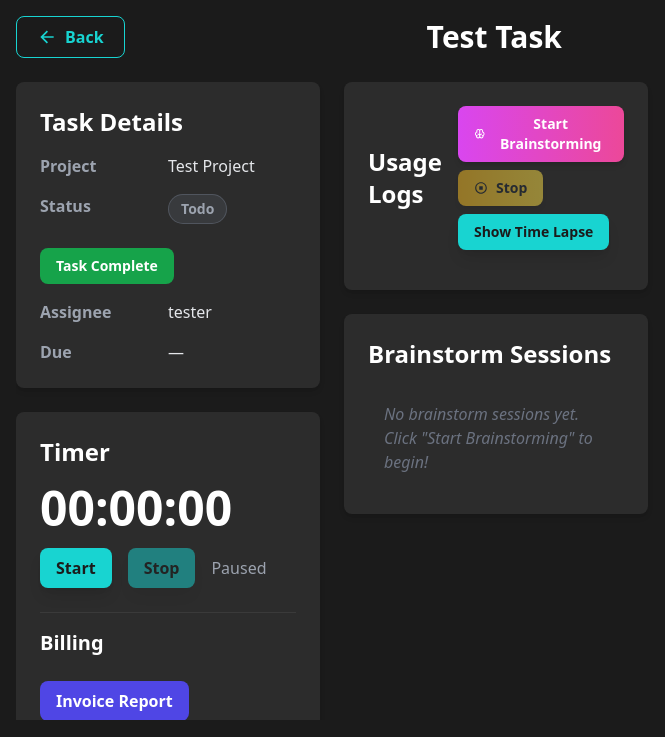
Test: TaskPage Component › displays entries error when time-entries fetch fails
This screenshot has width=665, height=737.
Expected: the heading "Test Task" is shown, x1=427 y1=19 x2=562 y2=55
Click the button "Show Time Lapse": (534, 232) x1=458 y1=214 x2=609 y2=250
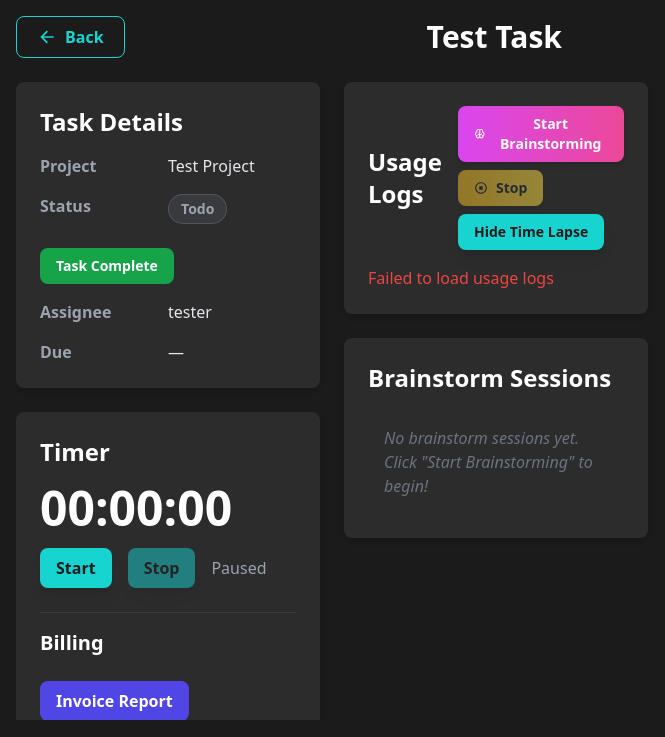
Expected: the text "Failed to load usage logs" is shown, x1=368 y1=267 x2=554 y2=289
